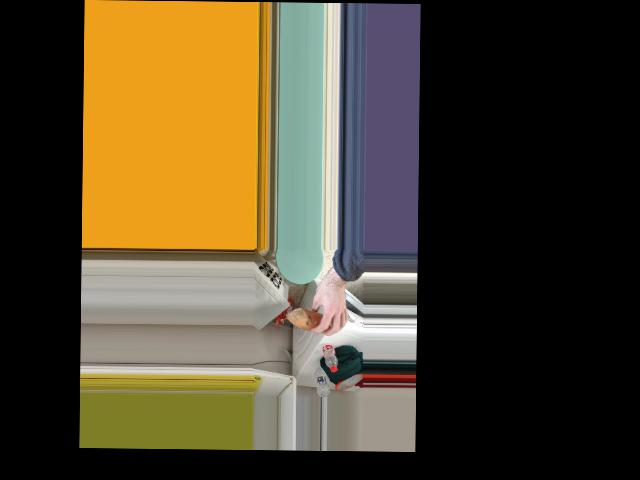sweet_potato: (288, 308, 336, 330)
